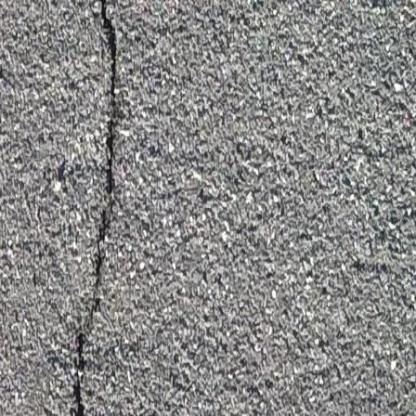Cracks: (60, 0, 128, 416)
